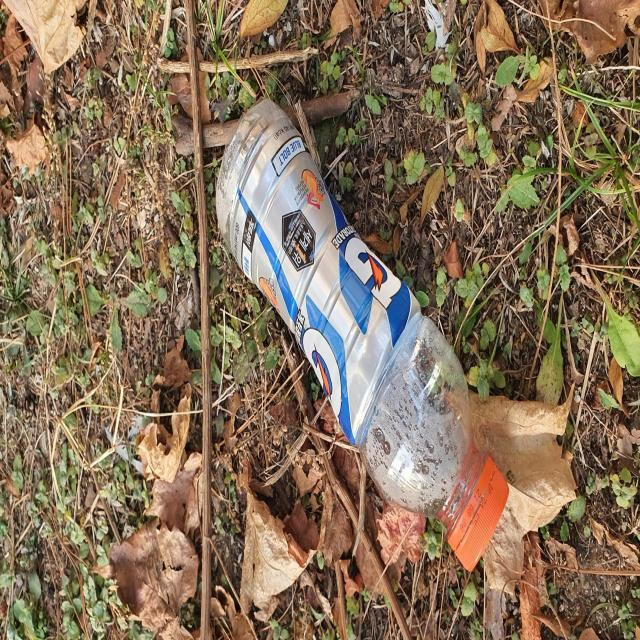plastic: (216, 98, 509, 571)
